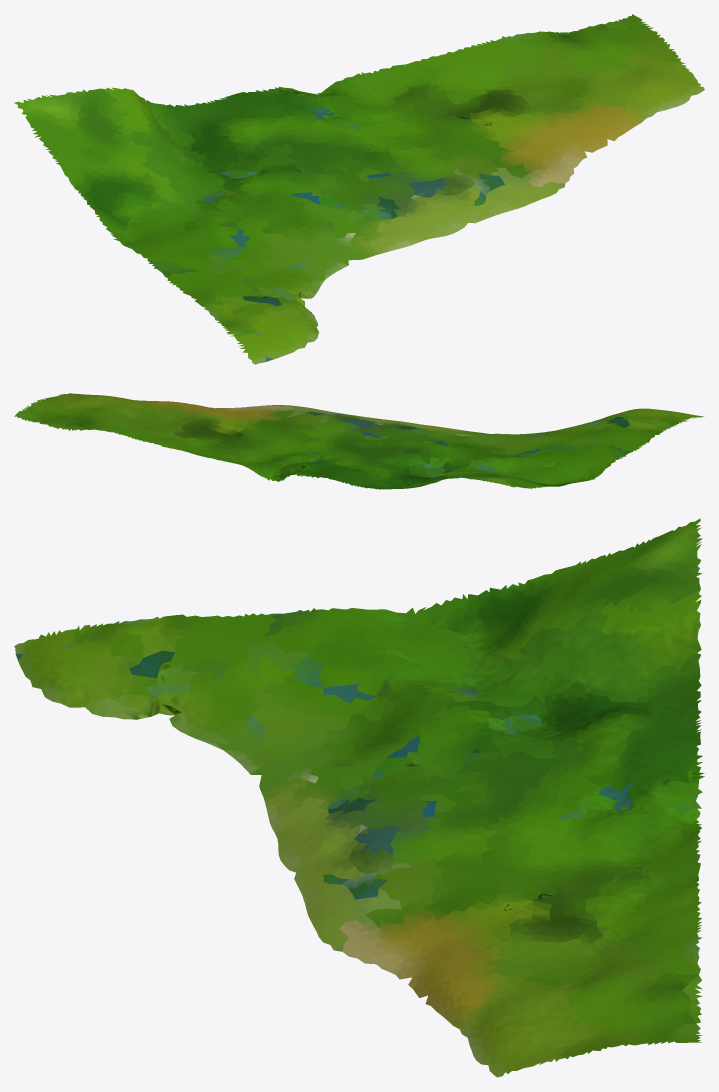
The model's file is chunk_2_3_LOD0.glb.
3 views of the same model, one above another, from view 1: azimuth 30°, elevation 25°; view 2: azimuth 150°, elevation 25°; view 3: azimuth 270°, elevation 25° (orthographic). The views are drawn at different scales.
Parts seen in each view (by area): view 1: chunk_2_3_LOD0; view 2: chunk_2_3_LOD0; view 3: chunk_2_3_LOD0.
Part boxes in pixels (box(x1,y1,x2,y2)): chunk_2_3_LOD0: box(14, 14, 704, 364); chunk_2_3_LOD0: box(14, 393, 704, 489); chunk_2_3_LOD0: box(14, 518, 704, 1077).
Size of the model in its own units: 99.38 by 14.64 by 66.37.
Materials: 1 (1 with a texture image).
